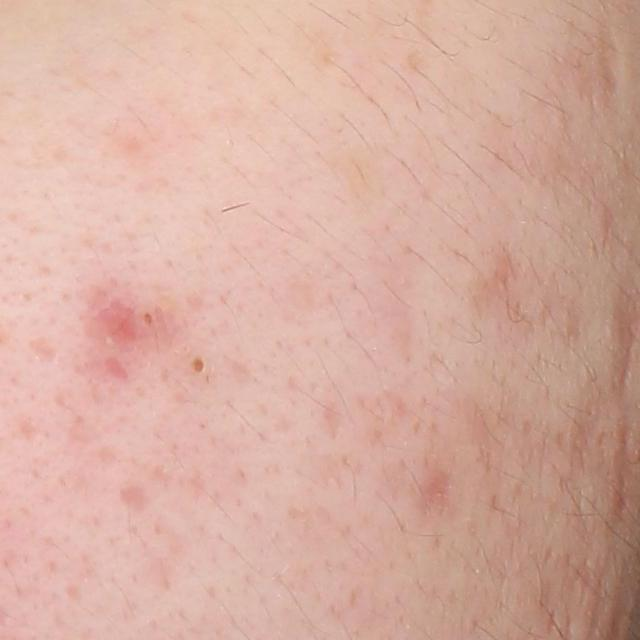atrophic_scar: (592, 22, 623, 110), (29, 336, 63, 365), (101, 355, 130, 382), (119, 485, 147, 511), (325, 400, 343, 438)
comedo: (184, 351, 220, 383), (142, 310, 153, 327)
